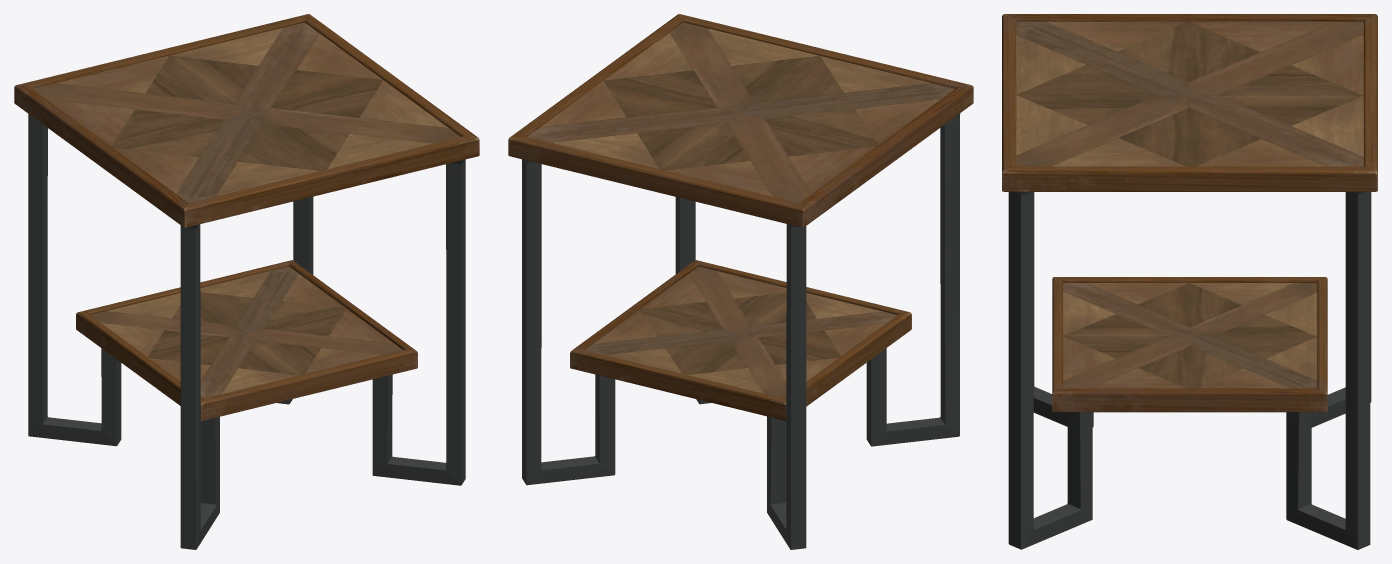
The model's file is abo-B07B7J3B5M.glb.
The picture shows the model from 3 angles, left to right: view 1: azimuth 30°, elevation 25°; view 2: azimuth 150°, elevation 25°; view 3: azimuth 270°, elevation 25°; orthographic projection. The views are drawn at different scales.
Size of the model in its own units: 0.503 by 0.563 by 0.503.
Materials: 1 (1 with a texture image).
